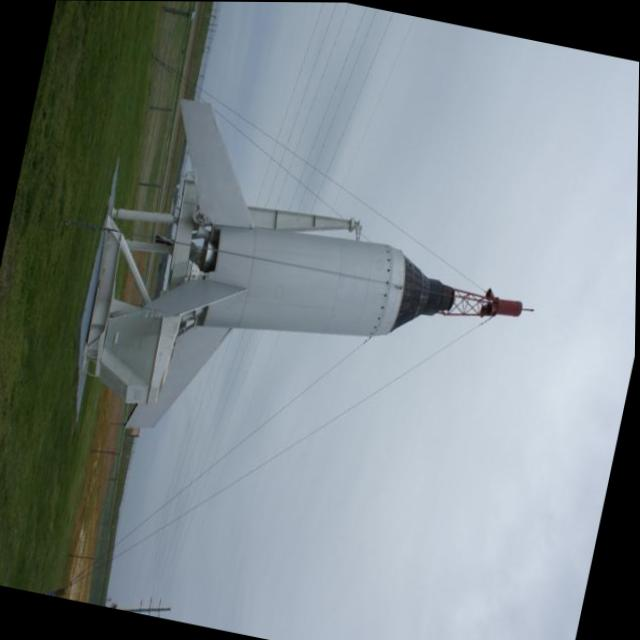missile: (66, 92, 554, 487)
